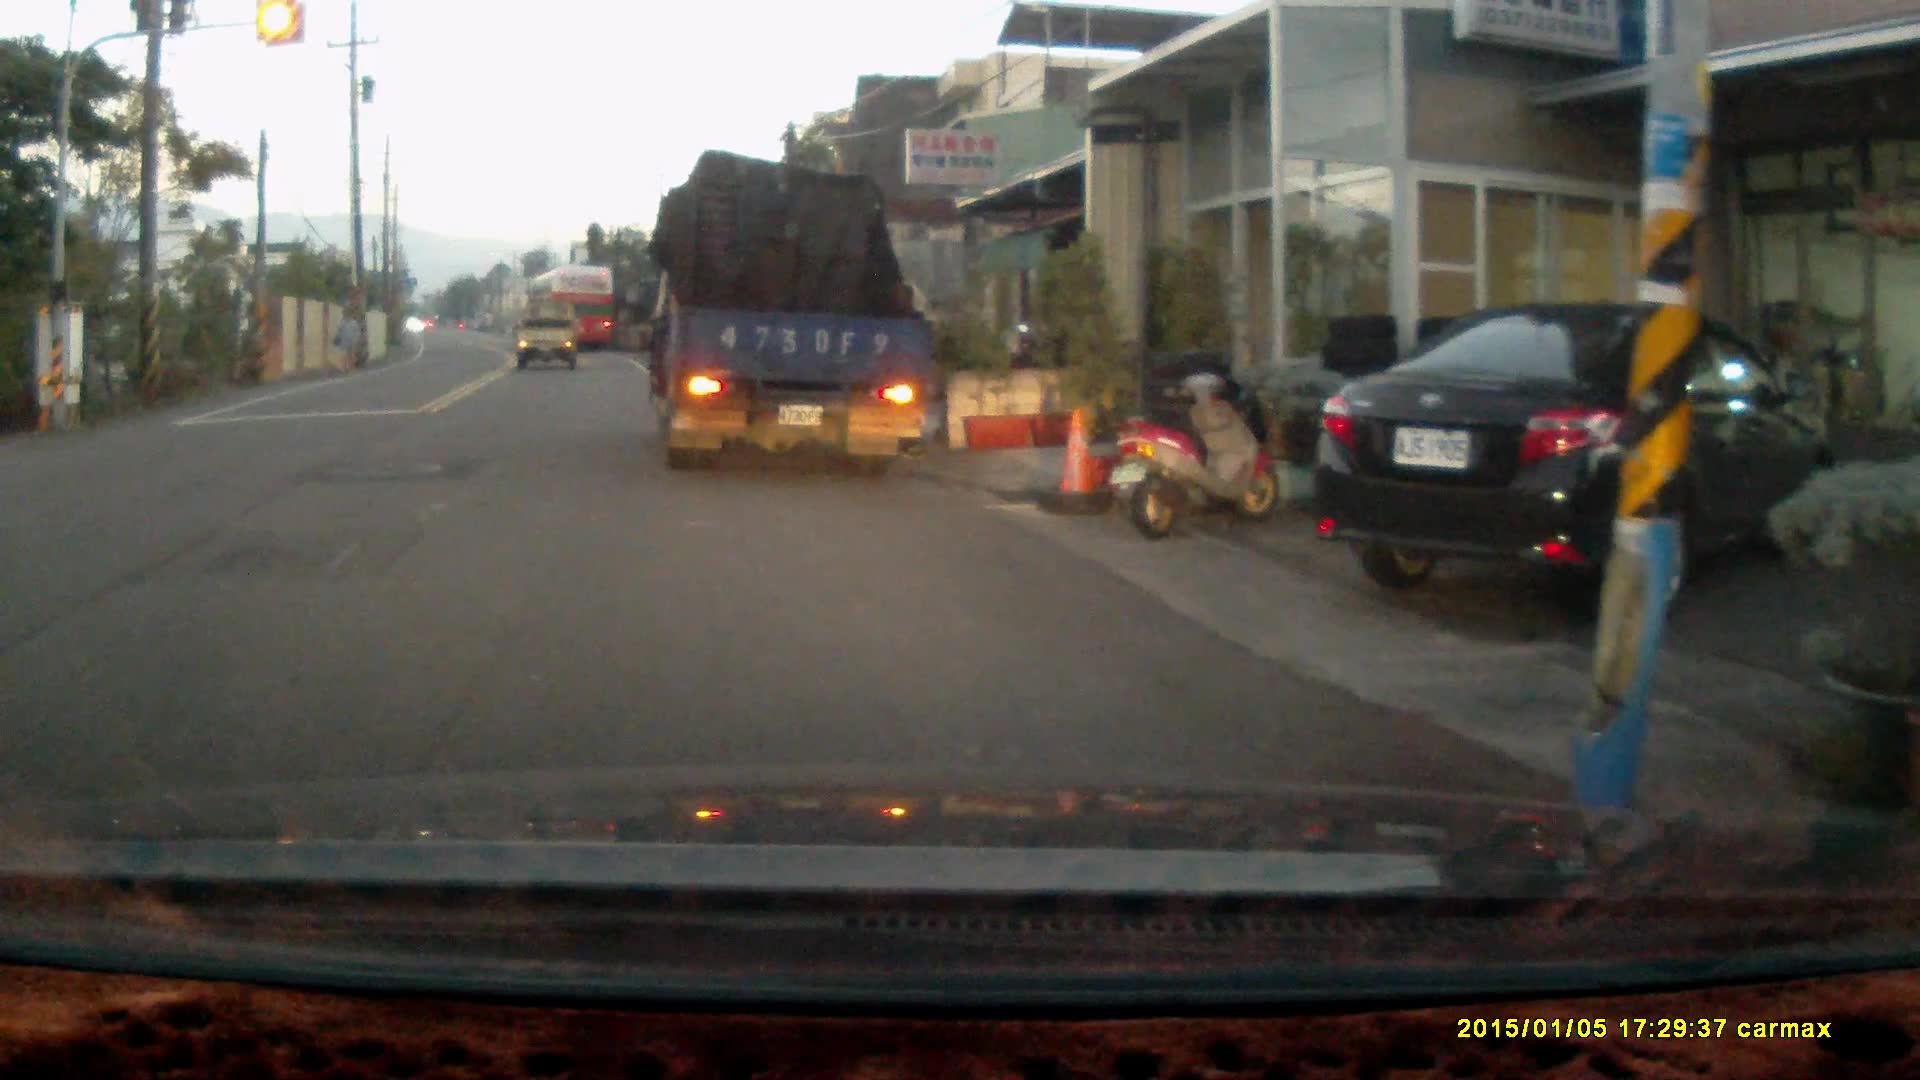pedestrian: (330, 300, 362, 369)
vehicle: (1307, 297, 1848, 626), (640, 157, 930, 473), (528, 265, 623, 358), (515, 292, 581, 372)
